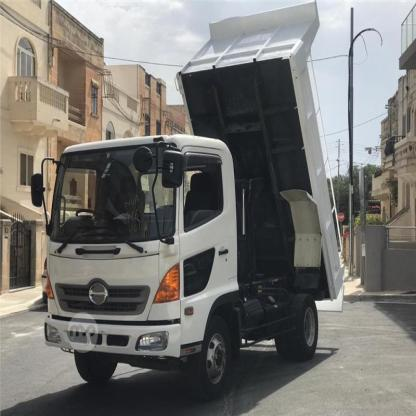dump_truck: (32, 5, 344, 396)
